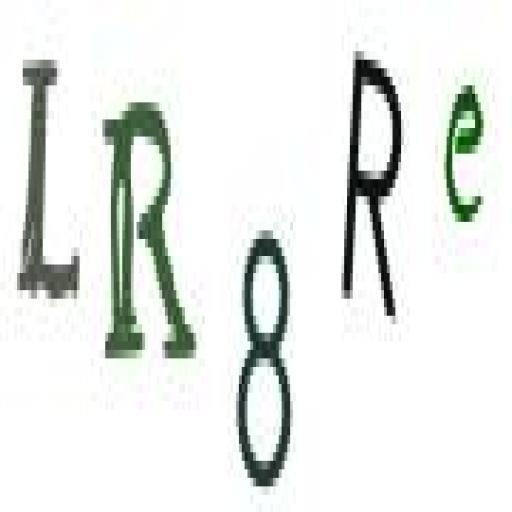8: (227, 207, 296, 499)
L: (8, 34, 88, 318)
R: (97, 75, 202, 388), (335, 34, 408, 340)
e: (441, 60, 491, 240)
